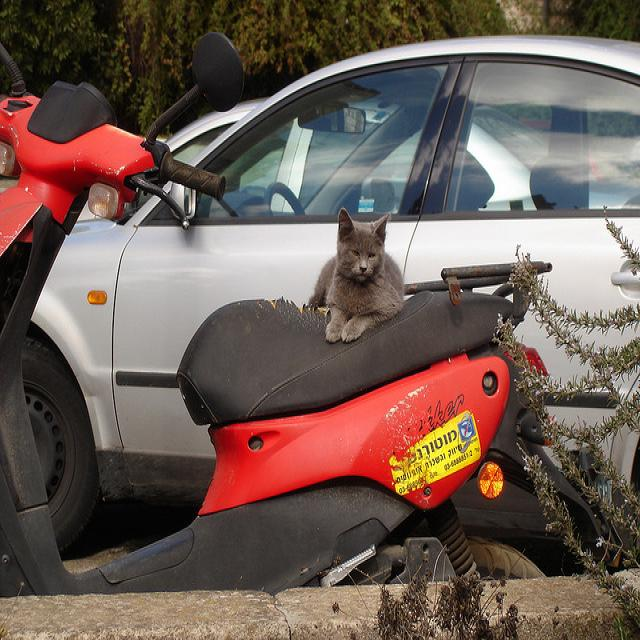motor: (0, 31, 617, 598)
